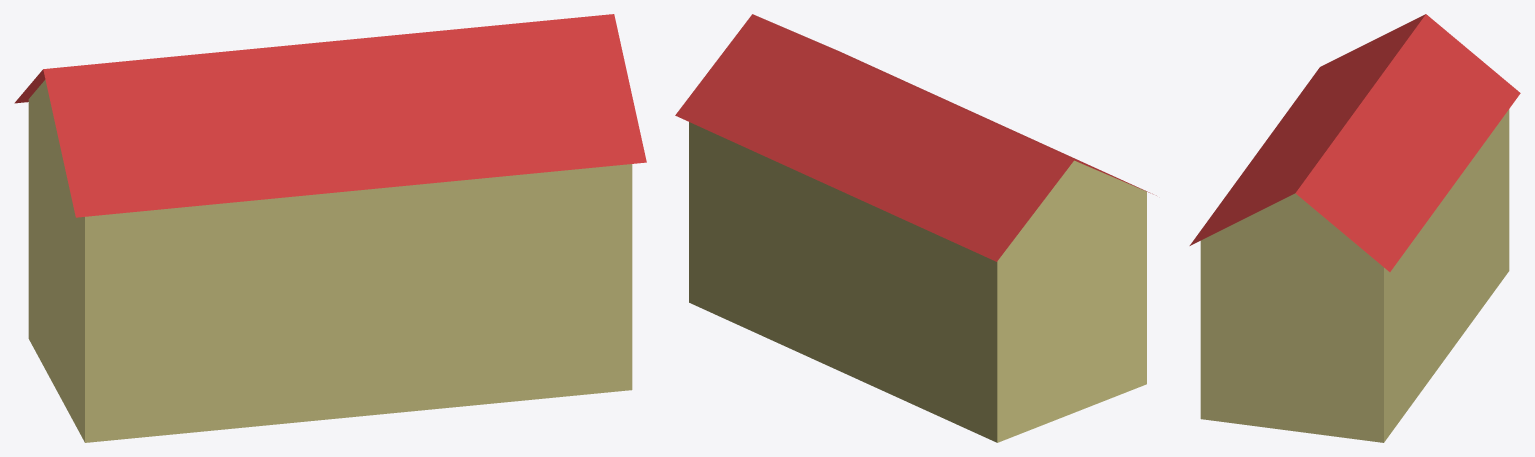
The picture shows the model from 3 angles, left to right: view 1: azimuth 30°, elevation 25°; view 2: azimuth 150°, elevation 25°; view 3: azimuth 270°, elevation 25°; orthographic projection. The views are drawn at different scales.
Bounding box in the file's own units: 13.13 × 8.95 × 7.22.
